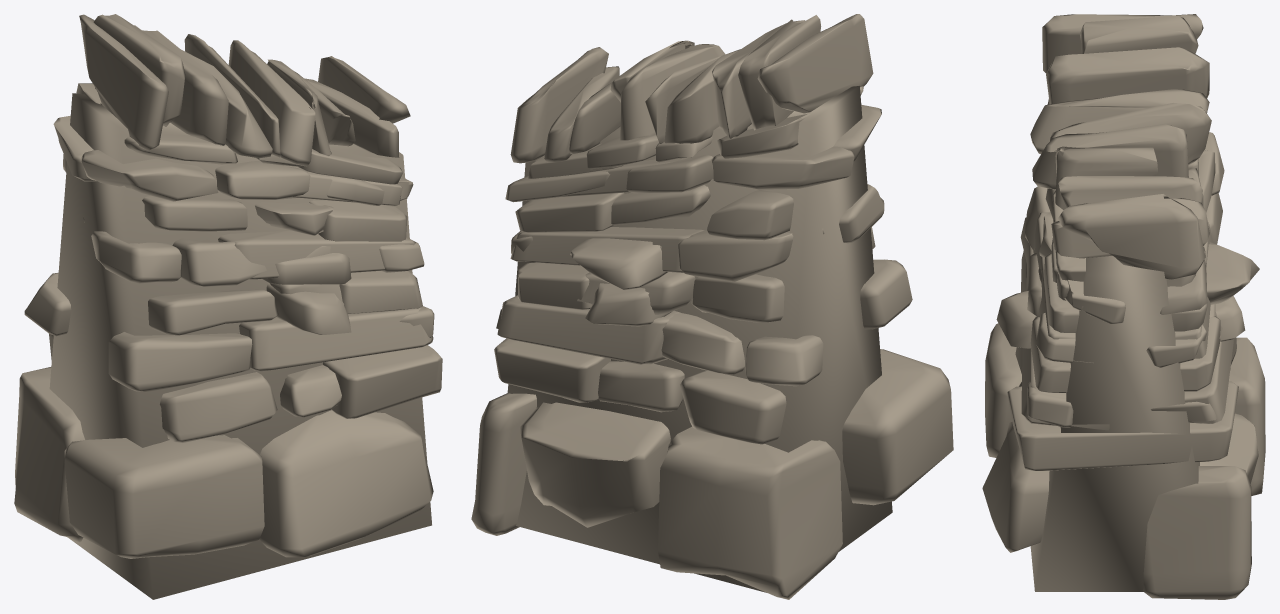
The model's file is boundary.dry_stone.end_a.glb.
The picture shows the model from 3 angles, left to right: view 1: azimuth 30°, elevation 25°; view 2: azimuth 150°, elevation 25°; view 3: azimuth 270°, elevation 25°; orthographic projection. The views are drawn at different scales.
Parts seen in each view (by area): view 1: main__stone_a98; view 2: main__stone_a98; view 3: main__stone_a98.
Boxes of the visible parts, box(x1,y1,x2,y2) form: main__stone_a98: box(14, 14, 442, 599); main__stone_a98: box(471, 14, 953, 599); main__stone_a98: box(982, 14, 1265, 599).
Size of the model in its own units: 1.17 by 1.68 by 0.9101.
